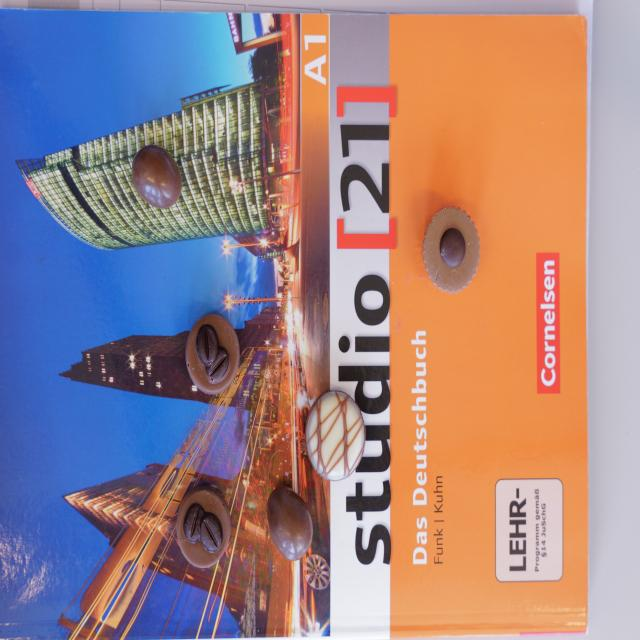Arabia: (176, 484, 233, 568), (186, 314, 242, 395)
Creme_brulee: (307, 390, 366, 480)
Jelly_Milk: (266, 485, 314, 562), (132, 145, 181, 208)
Noblesse: (422, 205, 482, 294)
